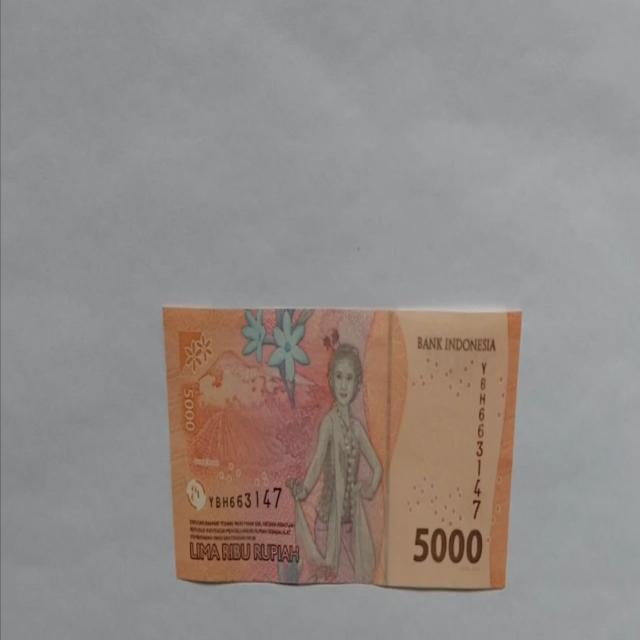lima ribu rupiah: (162, 304, 522, 590), (284, 341, 384, 584)
